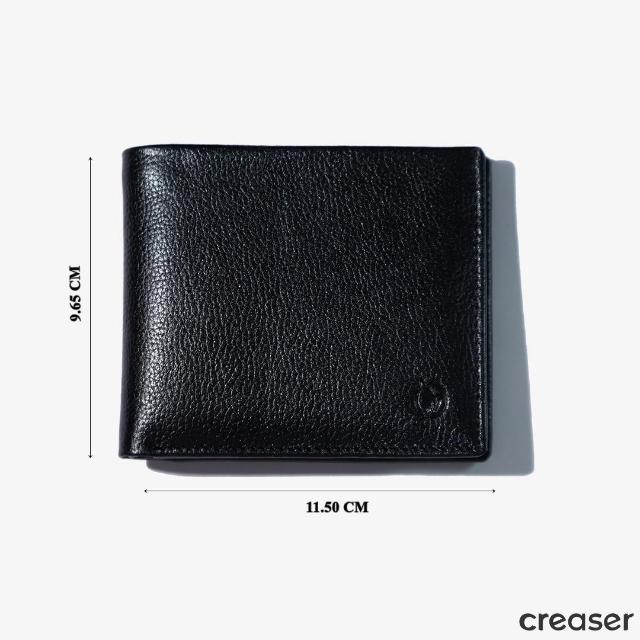wallet: (113, 134, 505, 476)
